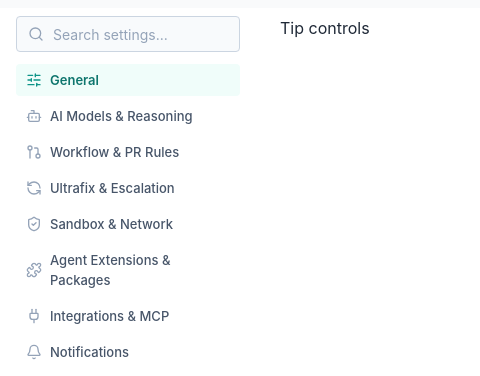
SettingsNavigation › searches every category and restores the selected tab when cleared
Click the tab "Workflow & PR Rules": click(128, 152) [16, 136, 240, 168]
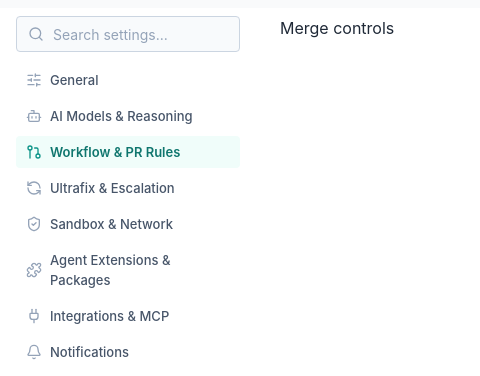
In the search field labelled "Search settings": (128, 34) [16, 16, 240, 52], type "quiet hours"
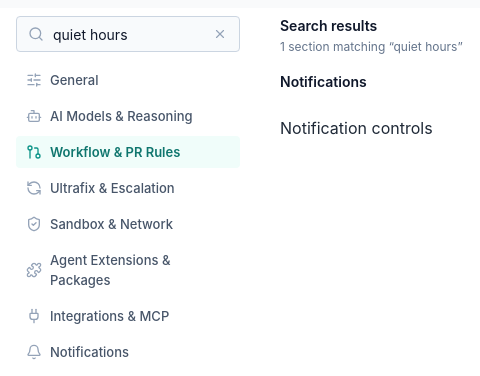
Check: the text "Notification controls" is shown, box [280, 118, 433, 138]
Check: the text "Merge controls" is gone
Check: the text "1 section matching “quiet hours”" is shown, box [280, 38, 463, 56]
Click the button named "Clear settings search": click(220, 34) [208, 22, 232, 46]
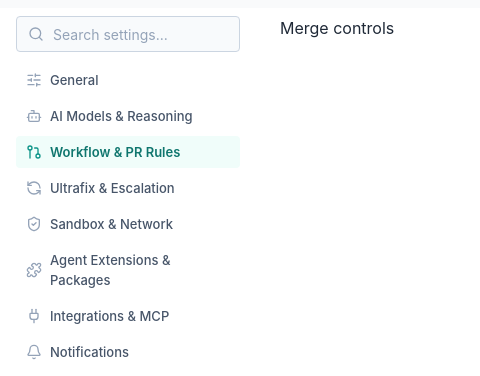
Check: the text "Merge controls" is shown, box [280, 18, 394, 38]
Check: the text "Notification controls" is gone
